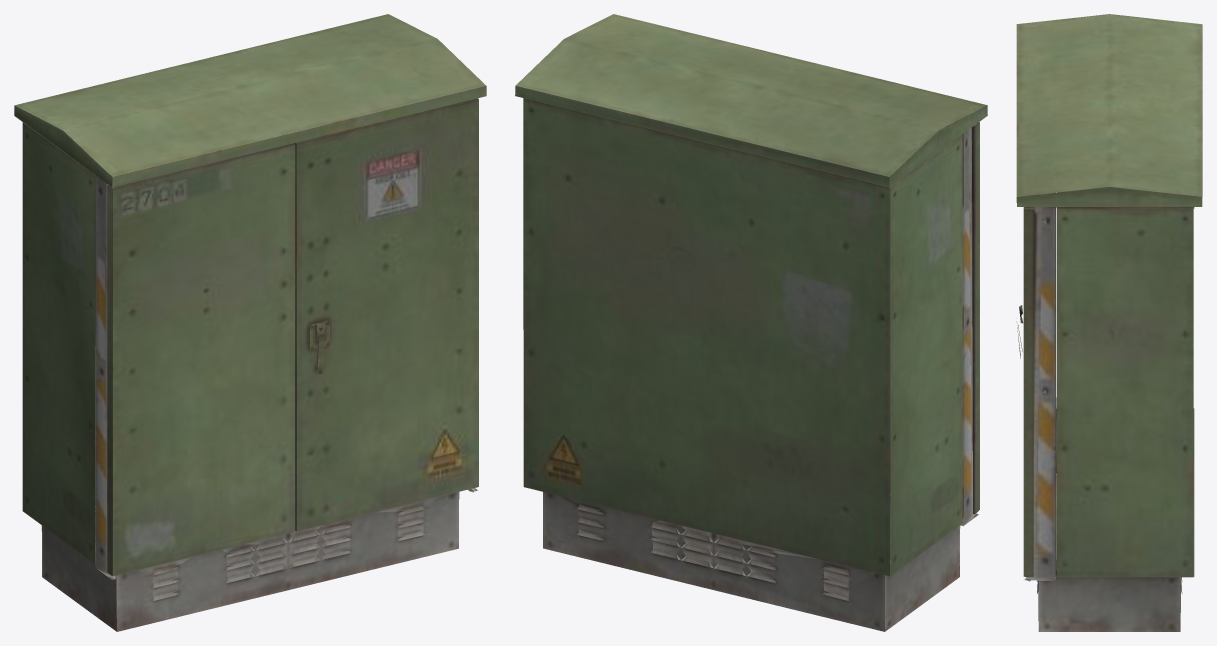
File: caixa_energia.glb
3 views of the same model, side by side, from view 1: azimuth 30°, elevation 25°; view 2: azimuth 150°, elevation 25°; view 3: azimuth 270°, elevation 25° (orthographic). The views are drawn at different scales.
Parts seen in each view (by area): view 1: Malha; view 2: Malha; view 3: Malha.
Boxes of the visible parts, x1,y1,x2,y2 form: Malha: (14, 14, 486, 631); Malha: (515, 14, 987, 631); Malha: (1016, 14, 1202, 631).
Size of the model in its own units: 0.9178 by 1.12 by 0.4172.
1 material, 1 textured.
